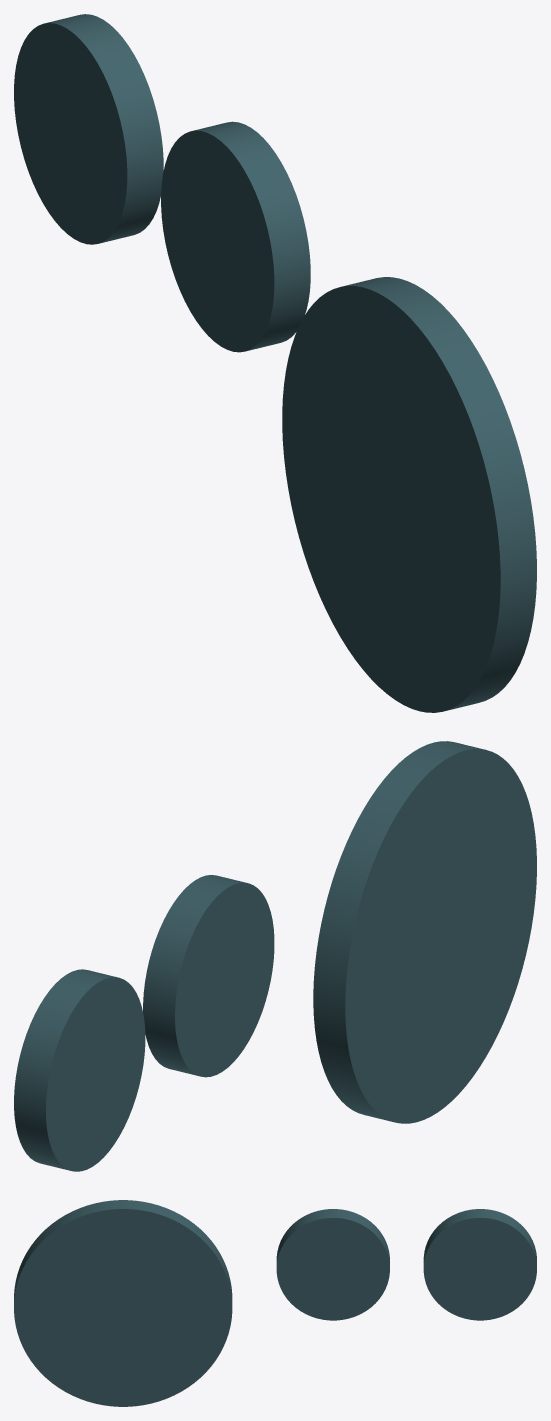
The model's file is SM_Laser_Glass.fbx.
The picture shows the model from 3 angles, top to bottom: view 1: azimuth 30°, elevation 25°; view 2: azimuth 150°, elevation 25°; view 3: azimuth 270°, elevation 25°; orthographic projection. The views are drawn at different scales.
Parts seen in each view (by area): view 1: SM_Laser_Glass; view 2: SM_Laser_Glass; view 3: SM_Laser_Glass.
Boxes of the visible parts, left/top/right/bottom form: SM_Laser_Glass: left=14, top=14, right=536, bottom=712; SM_Laser_Glass: left=14, top=741, right=536, bottom=1171; SM_Laser_Glass: left=14, top=1200, right=536, bottom=1406.
Bounding box in the file's own units: 0.0469 × 0.00377 × 0.0196.
